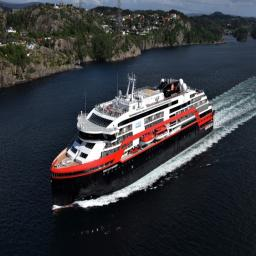cruises: (49, 72, 218, 211)
